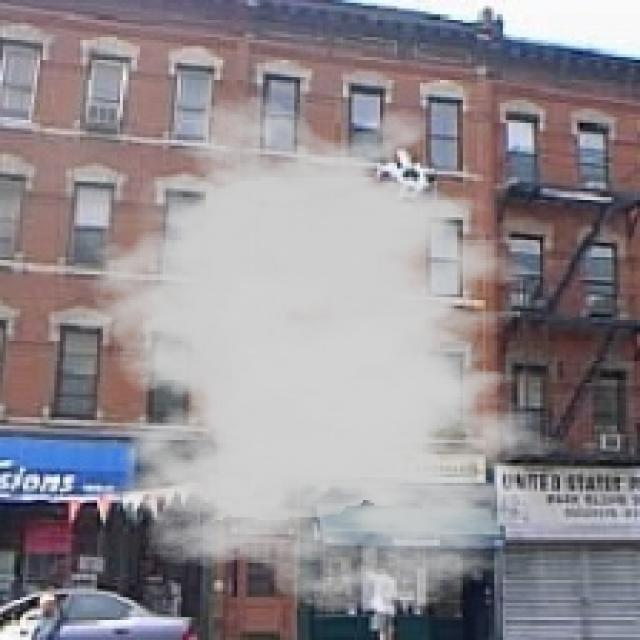Smoke: (66, 95, 592, 614)
